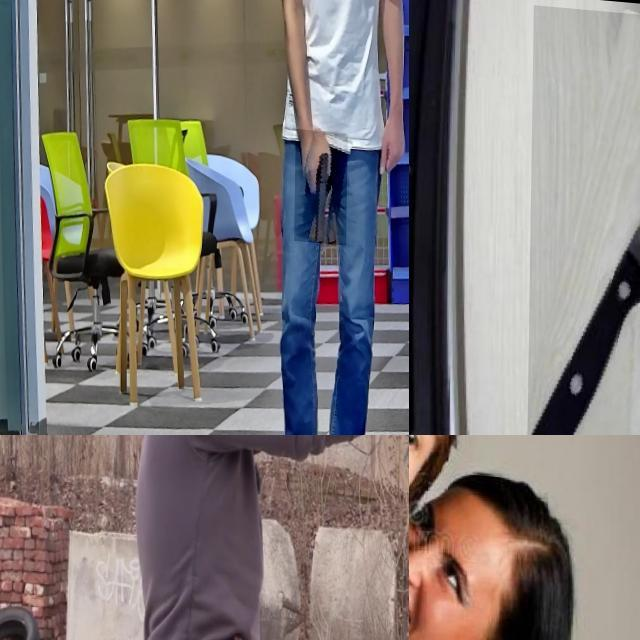-: (527, 0, 640, 435), (409, 435, 479, 635)
gun-knife-thesis - v11 Yolov5 augmented: (296, 123, 348, 239)
